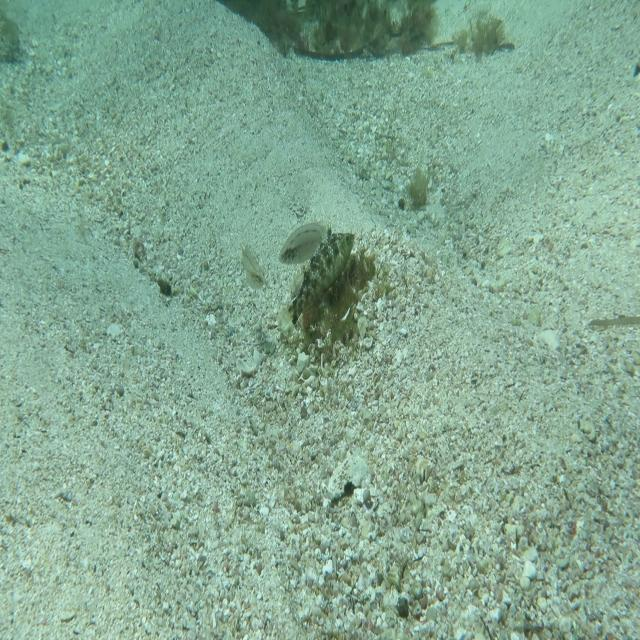ROLL: (274, 221, 360, 344)
female: (276, 214, 332, 269)
nest: (284, 242, 381, 362)
other_fish: (238, 240, 270, 296)
